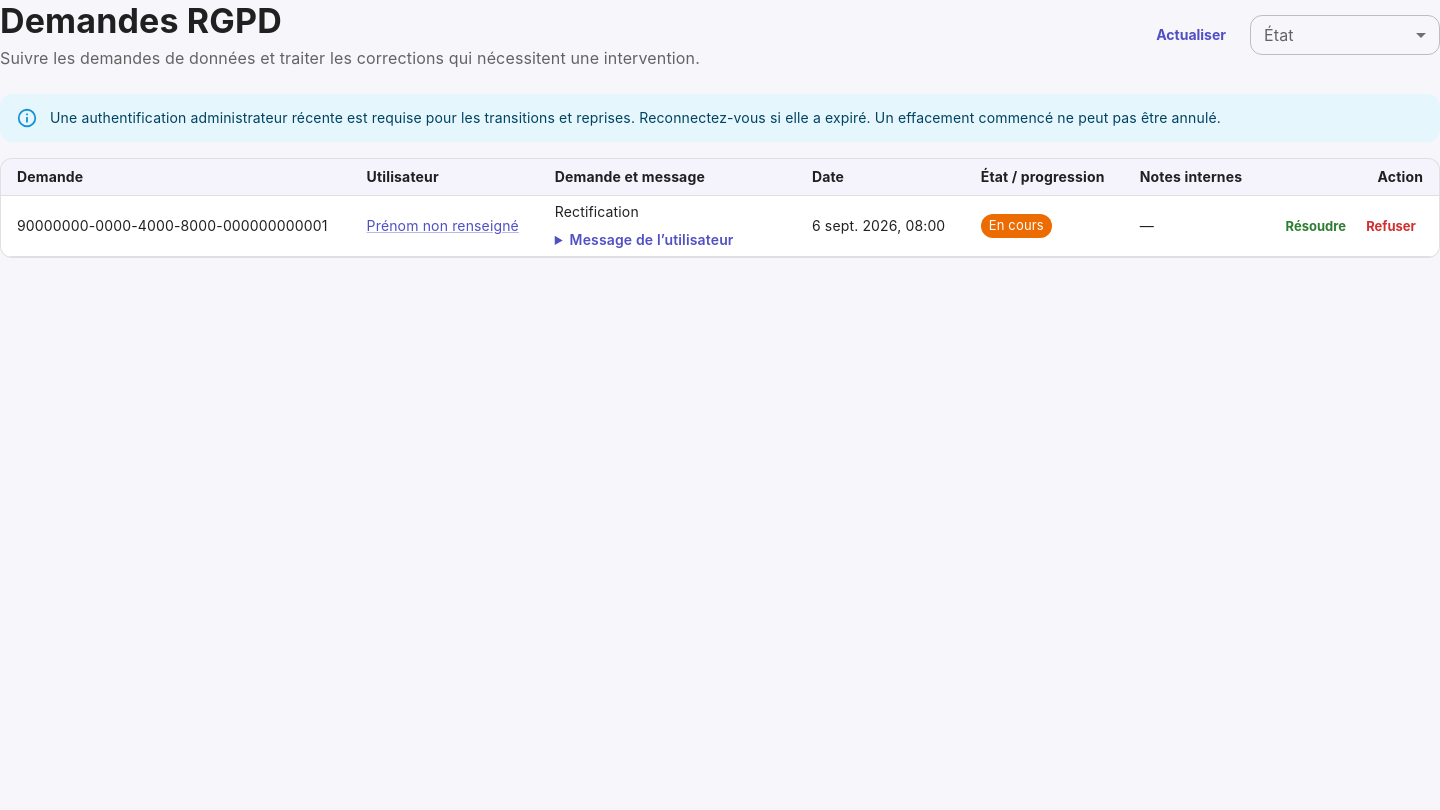
Test case: privacy request messages › retains the reply after a failed mutation and allows an explicit retry
Click the button "Résoudre" at (1316, 226), box [1281,211,1351,241]
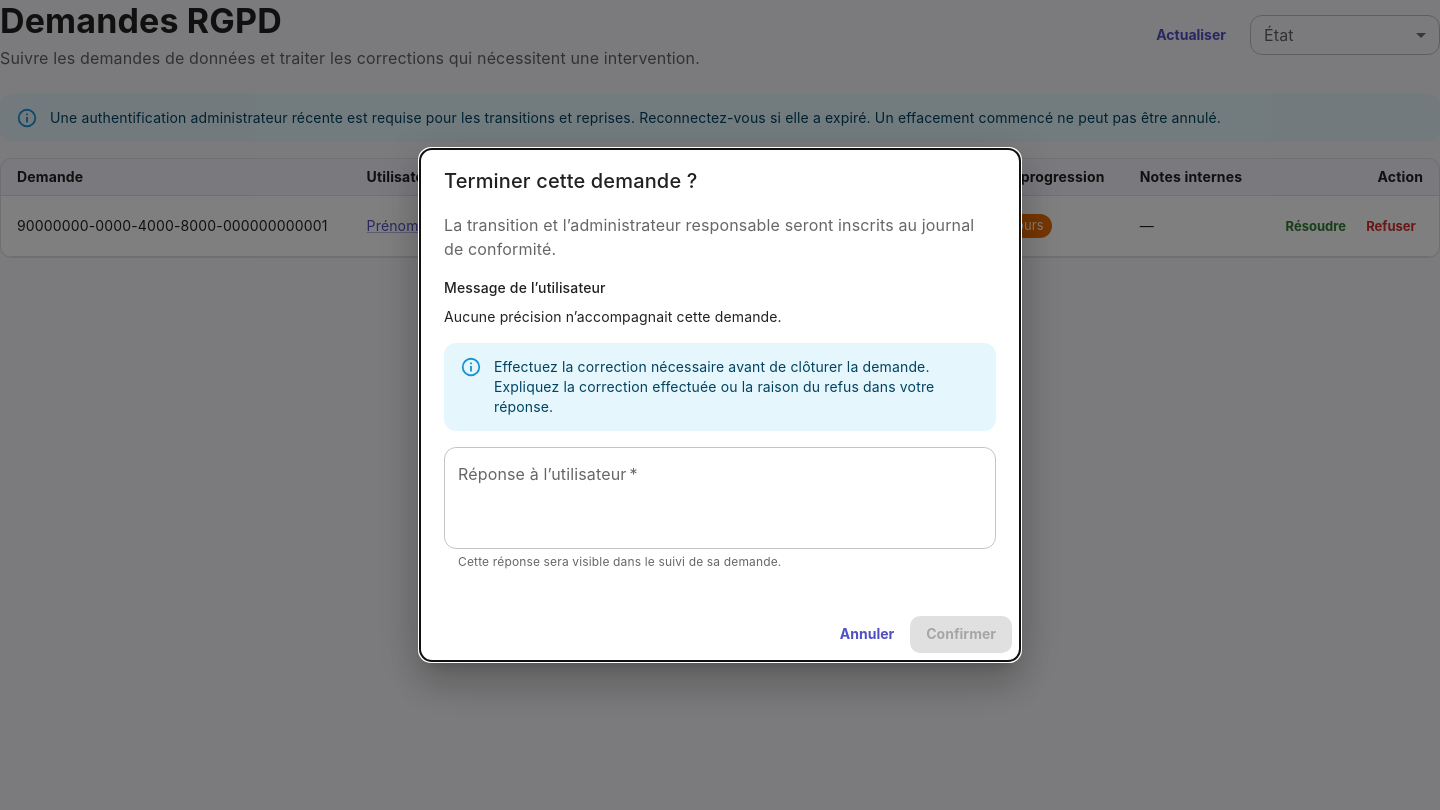
Type "La correction a été vérifiée." into the text box labelled "Réponse à l’utilisateur *" at (720, 498), box [458,464,982,533]
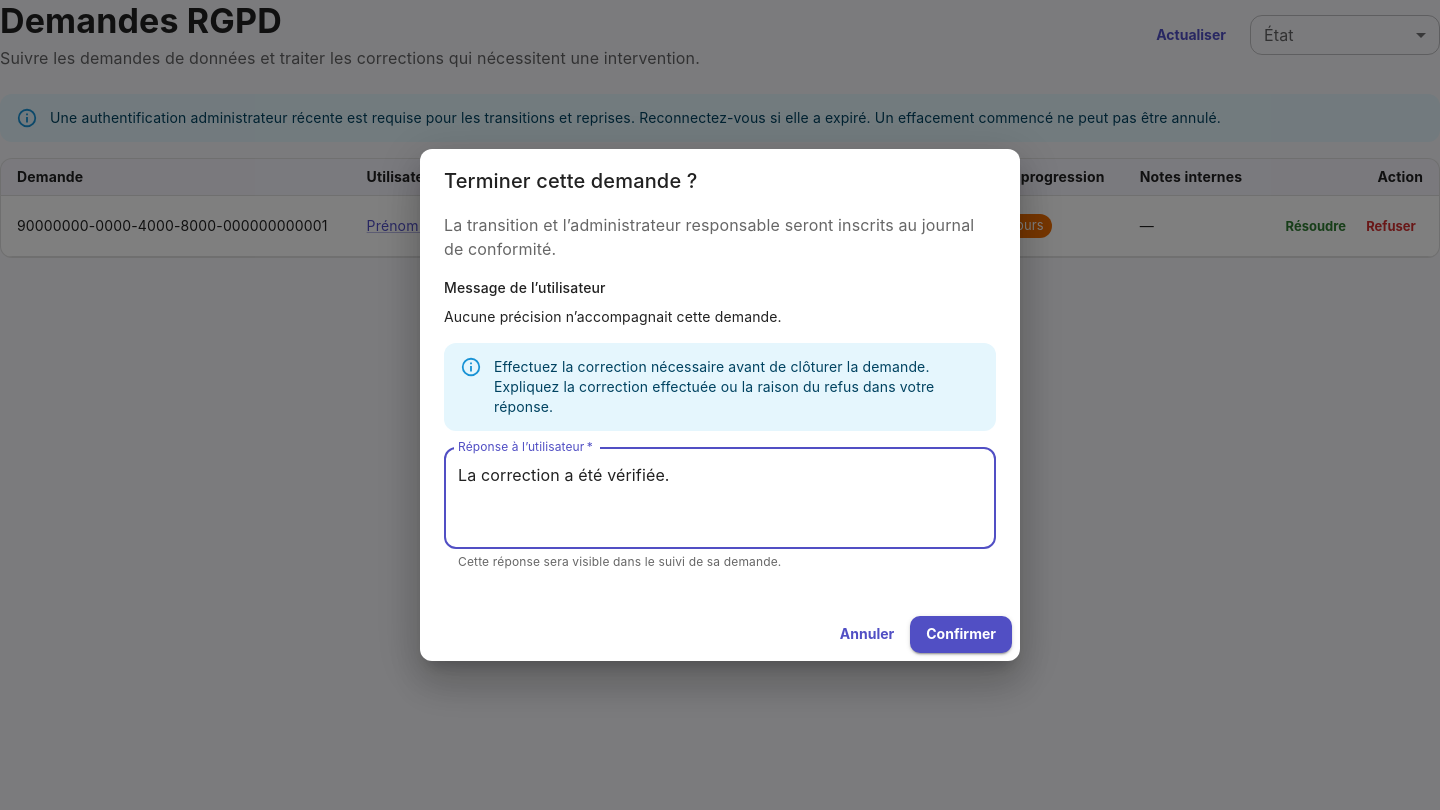
Click the button "Confirmer" at (961, 634), box [910,616,1012,653]
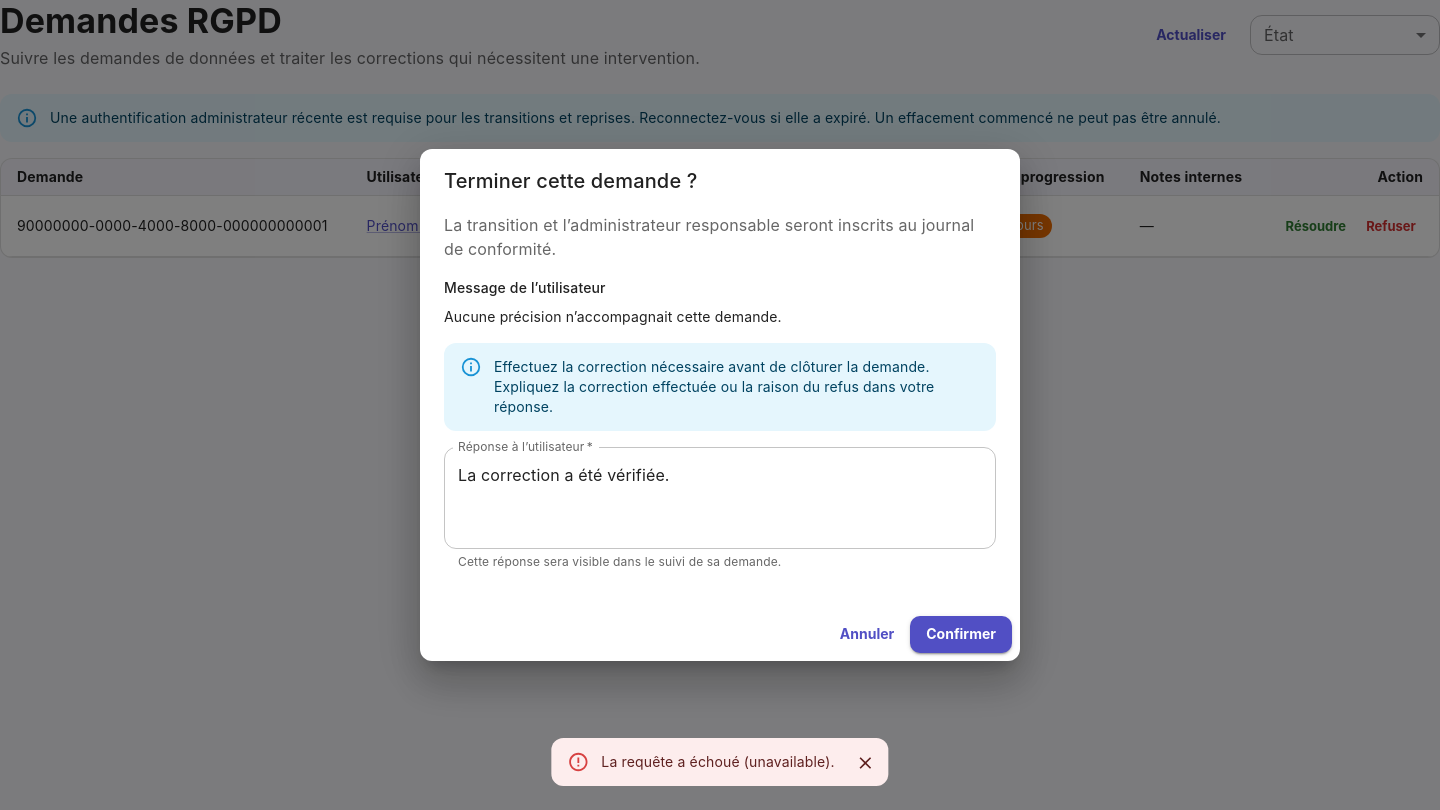
Expected: the text "La requête a échoué (unavailable)." is shown, [601,753,835,770]
Click the button "Confirmer" at (961, 634), box [910,616,1012,653]
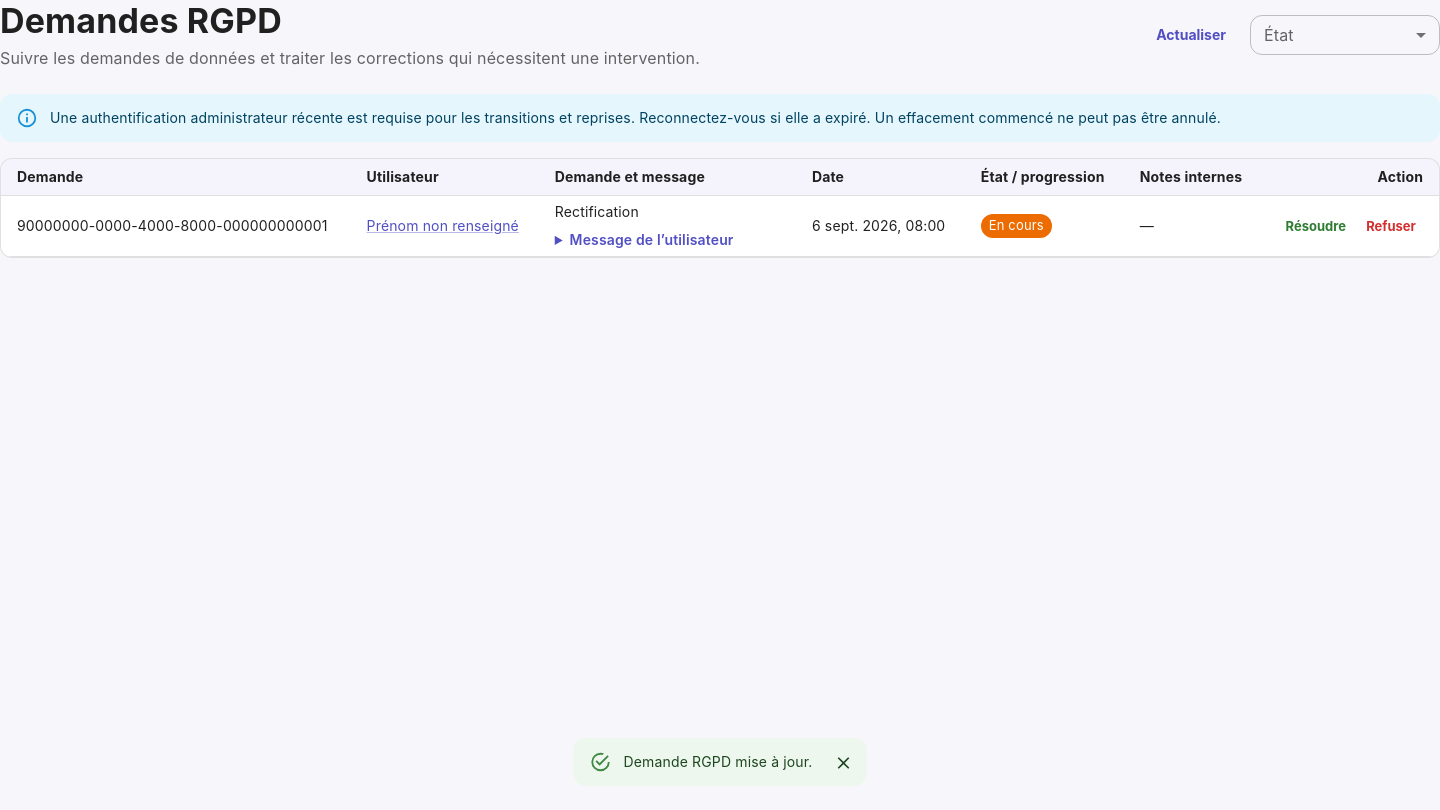
Expected: the dialog is gone
